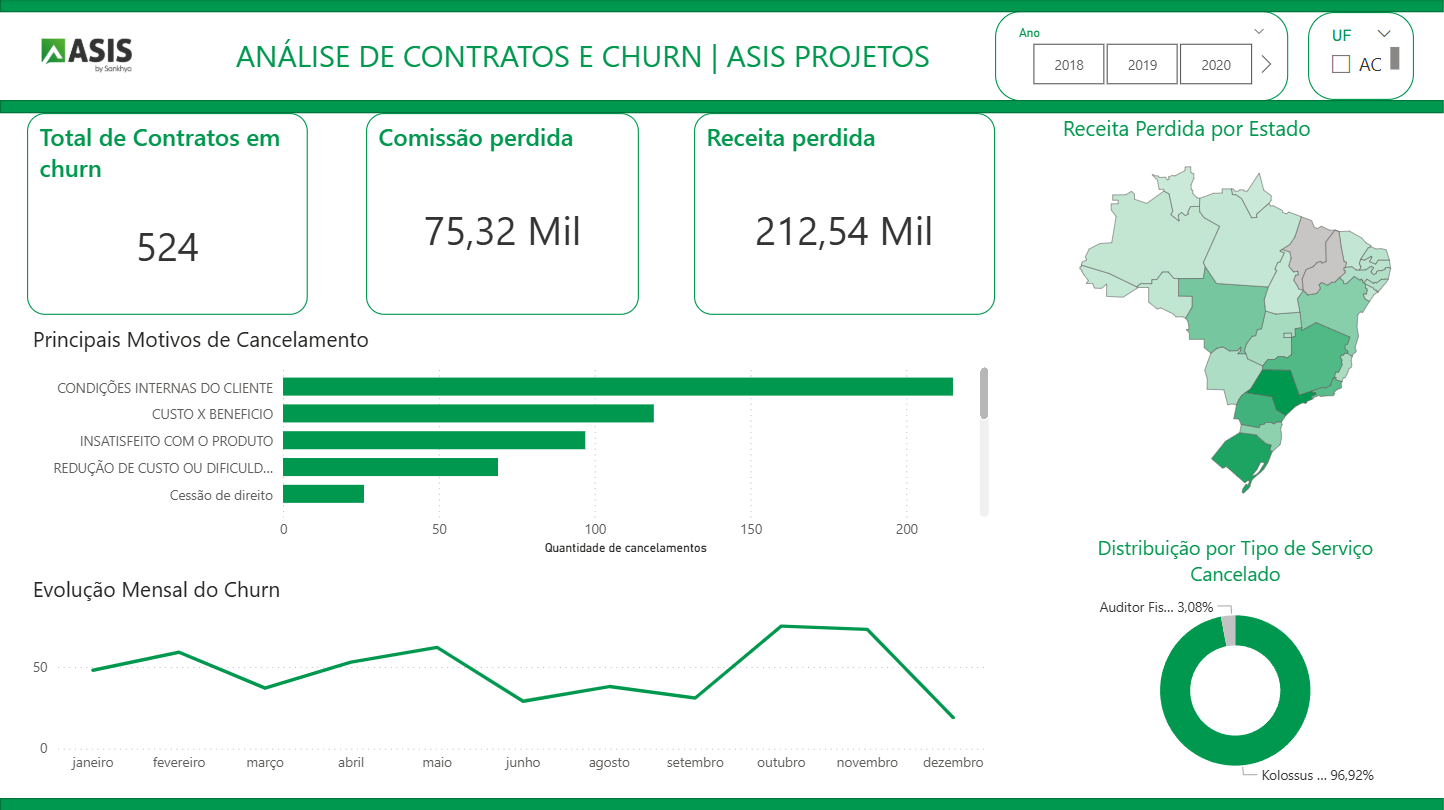

The dashboard page shown, as its layout file describes it:
{"tool":"powerbi","page":{"name":"Churn","canvas":[1280,720],"ordinal":1},"visuals":[{"type":"card","title":"Total de Contratos em churn","fields":{"Values":["Medidas.Churn_Contratos"]},"box":[24.3,101.2,249,179],"z":0},{"type":"card","title":"Receita perdida","fields":{"Values":["Medidas.Receita_Perdida_CHURN"]},"box":[615.7,101.2,266.5,179],"z":1000},{"type":"card","title":"Comissão perdida","fields":{"Values":["Medidas.Comissao_Perdida_CHURN"]},"box":[324.9,101.2,242.2,179],"z":2000},{"type":"lineChart","title":"Evolução Mensal do Churn","fields":{"Y":["Medidas.Churn_Mensal"],"Category":["DIM_DATA.NomeMes"]},"box":[24.3,509.7,857.9,184.8],"z":3000},{"type":"slicer","fields":{"Values":["DIM_DATA.Ano"]},"box":[882.2,10.7,259.7,79.8],"z":4000},{"type":"barChart","title":"Principais Motivos de Cancelamento","fields":{"Category":["CHURN.descricao_canc"],"Y":["CountNonNull(CHURN.descricao_canc)"]},"box":[24.3,287.9,857.9,209.1],"z":5000},{"type":"shapeMap","title":"Receita Perdida por Estado","fields":{"Category":["CHURN.Estado"],"Value":["Medidas.Receita_Perdida_CHURN"]},"box":[937.6,101.2,316.1,359.9],"z":6000},{"type":"slicer","title":"Total Contratos em churn","fields":{"Values":["CHURN.Estado"]},"box":[1159.4,11.7,94.3,77.8],"z":7000},{"type":"shape","box":[0,0,1280,11.7],"z":8000},{"type":"image","box":[16.5,30.2,119.6,39.9],"z":9000},{"type":"textbox","box":[204.3,26.3,640,47.7],"z":10000},{"type":"shape","box":[0,89.5,1280,11.7],"z":11000},{"type":"donutChart","title":"Distribuição por Tipo de Serviço Cancelado","fields":{"Category":["CHURN.descricao_pro"],"Y":["CountNonNull(CHURN.descricao_pro)"]},"box":[937.6,474.7,316.1,231.5],"z":12000},{"type":"shape","box":[0,708.1,1280,11.7],"z":13000}]}

Visuals, with their boxes in screenshot pixels (x1, y1, x2, y2), scaled from the page's 1280x720 canvas onto the 1444x810 screenshot:
"Total de Contratos em churn" card: rect(27, 114, 308, 315)
"Receita perdida" card: rect(695, 114, 995, 315)
"Comissão perdida" card: rect(367, 114, 640, 315)
"Evolução Mensal do Churn" lineChart: rect(27, 573, 995, 781)
slicer - DIM_DATA.Ano: rect(995, 12, 1288, 102)
"Principais Motivos de Cancelamento" barChart: rect(27, 324, 995, 559)
"Receita Perdida por Estado" shapeMap: rect(1058, 114, 1414, 519)
"Total Contratos em churn" slicer: rect(1308, 13, 1414, 101)
shape: rect(0, 0, 1443, 13)
image: rect(19, 34, 154, 79)
textbox: rect(230, 30, 952, 83)
shape: rect(0, 101, 1443, 114)
"Distribuição por Tipo de Serviço Cancelado" donutChart: rect(1058, 534, 1414, 794)
shape: rect(0, 797, 1443, 809)
